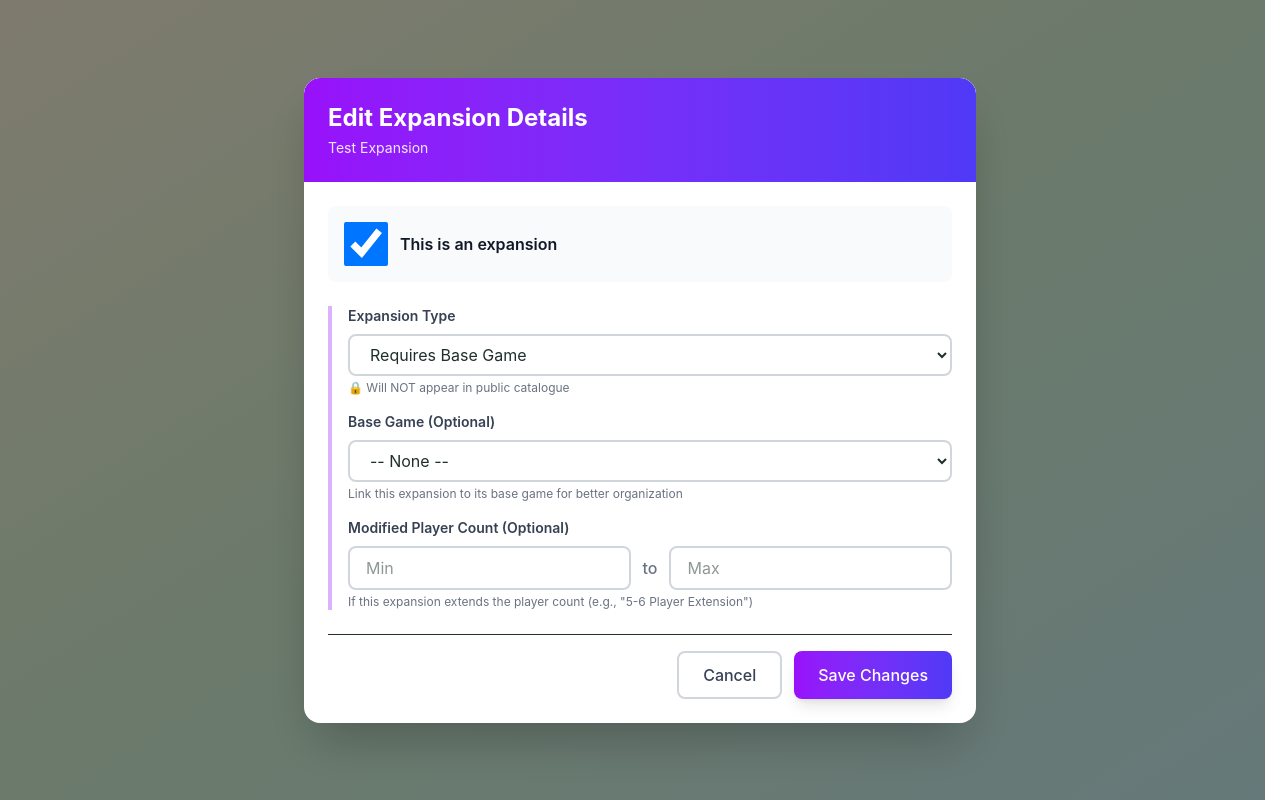
Test: ExpansionEditModal › Expansion Checkbox Toggle › hides expansion fields when checkbox is unchecked
Expected: the text "Expansion Type" is shown, [348,306,456,324]
Click the checkbox labelled "This is an expansion" at point(366, 244), box [344,222,388,266]
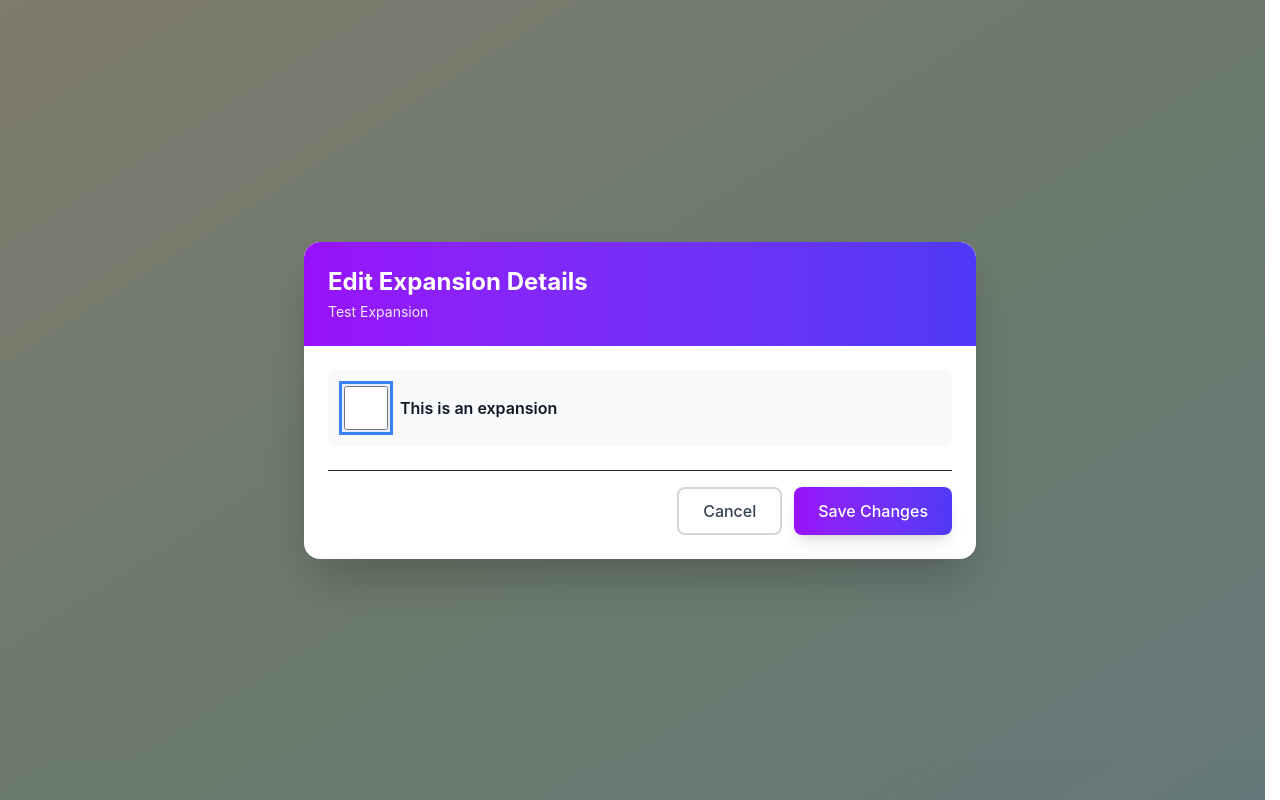
Expected: the text "Expansion Type" is gone
